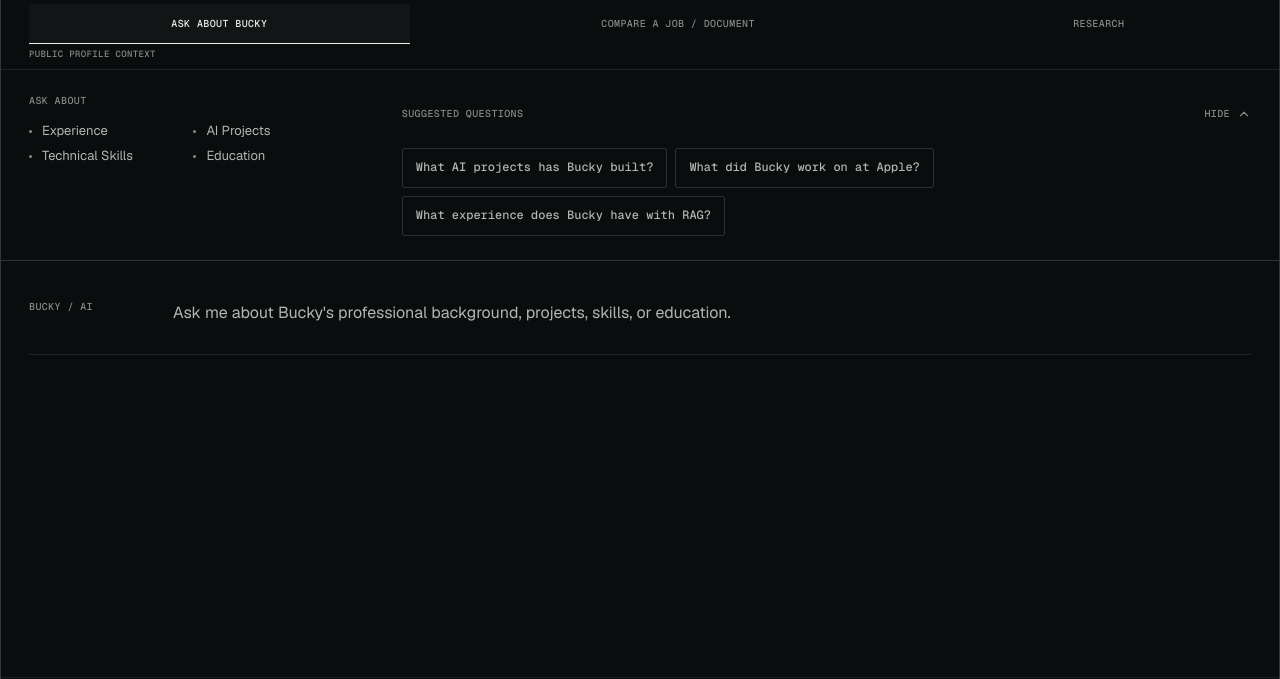
Test: AskBucky request locking › routes suggested questions through the same API and success counter
Click the button "What AI projects has Bucky built?": [535, 168] box [402,148,667,188]
(page scrolled)
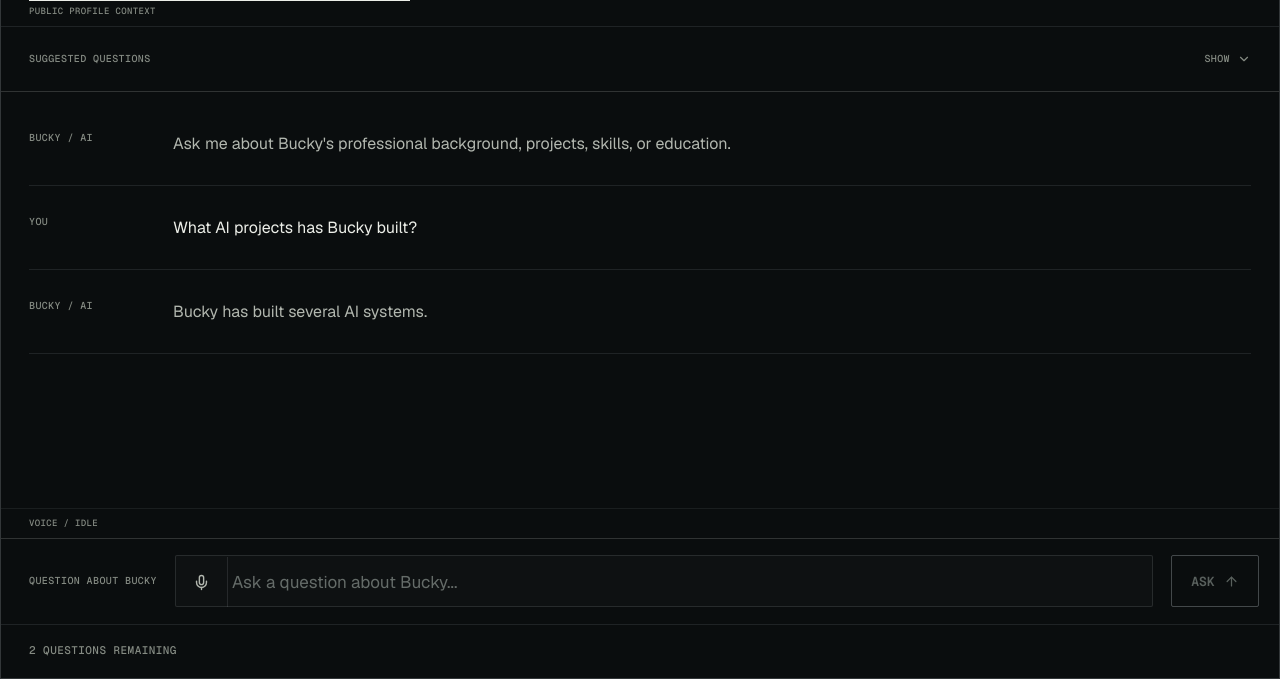
expect the text "Bucky has built several AI systems." is shown: met, box [173,301,427,322]
expect the text "2 questions remaining" is shown: met, box [29,643,177,659]
